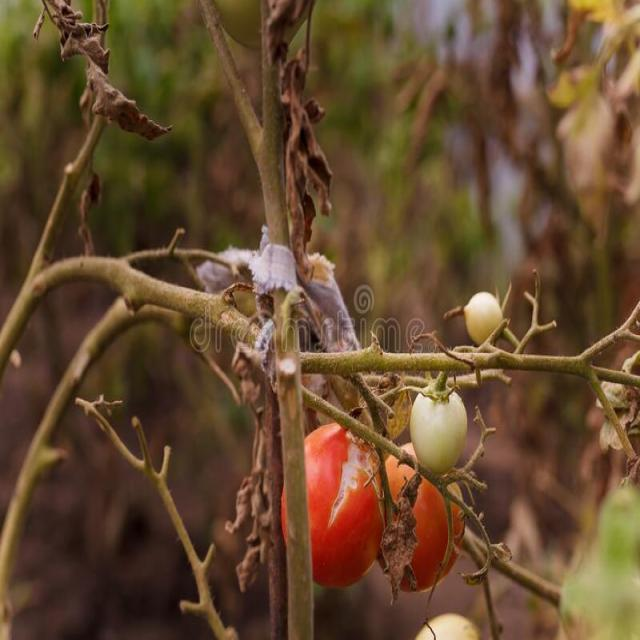kirmizi: (288, 388, 388, 590)
